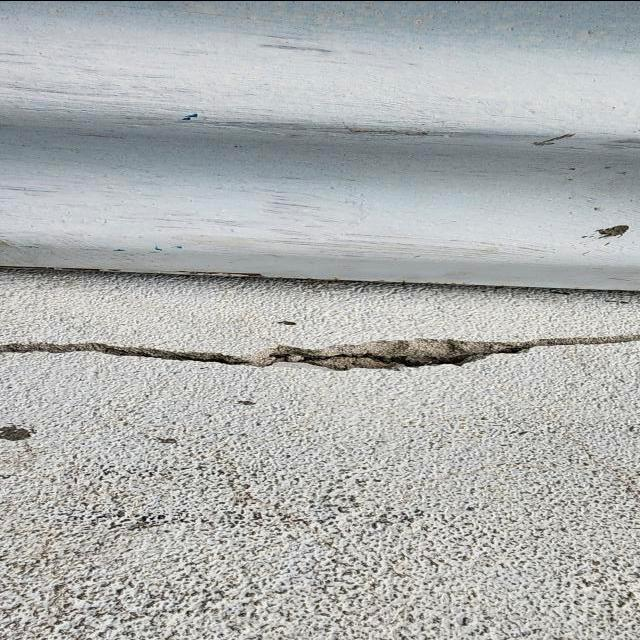SurfaceCrack: (1, 237, 639, 418)
